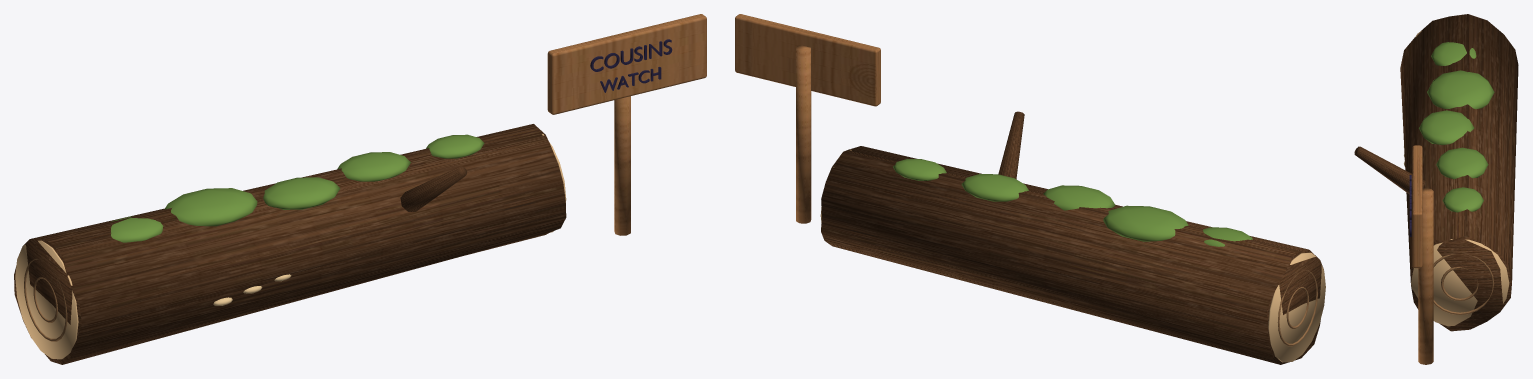
File: cousinslog.glb
The picture shows the model from 3 angles, left to right: view 1: azimuth 30°, elevation 25°; view 2: azimuth 150°, elevation 25°; view 3: azimuth 270°, elevation 25°; orthographic projection. The views are drawn at different scales.
Parts seen in each view (by area): view 1: cl_log, cl_board, cl_endcap, cl_mosspad.001, cl_post, cl_mosspad.002, cl_mosspad.003, cl_branch, cl_mosspad, cl_mosspad.004, Text; view 2: cl_log, cl_board, cl_post, cl_endcap, cl_mosspad.001, cl_mosspad.003, cl_mosspad.002, cl_branch, cl_mosspad.004, cl_mosspad; view 3: cl_log, cl_endcap.001, cl_post, cl_mosspad.001, cl_mosspad.002, cl_board, cl_mosspad.003, cl_branch, cl_mosspad.004, cl_mosspad, Torus.003, Torus.002.
Part boxes in pixels (x1,y1,x2,y2): cl_log: (14,124,566,364); cl_board: (547,14,706,114); cl_endcap: (15,240,78,359); cl_mosspad.001: (164,188,257,226); cl_post: (614,96,630,235); cl_mosspad.002: (263,177,340,209); cl_mosspad.003: (337,152,410,181); cl_branch: (400,166,466,211); cl_mosspad: (111,216,163,242); cl_mosspad.004: (426,134,484,158); Text: (590,39,672,71); cl_log: (821,146,1323,364); cl_board: (735,14,880,106); cl_post: (796,45,811,223); cl_endcap: (1268,252,1325,362); cl_mosspad.001: (1103,205,1188,241); cl_mosspad.003: (961,174,1028,201); cl_mosspad.002: (1043,185,1115,210); cl_branch: (998,111,1024,179); cl_mosspad.004: (893,159,946,180); cl_mosspad: (1203,227,1252,246); cl_log: (1400,14,1518,331); cl_endcap.001: (1411,239,1509,326); cl_post: (1418,188,1433,364); cl_mosspad.001: (1427,70,1494,109); cl_mosspad.002: (1419,110,1474,145); cl_board: (1412,145,1422,268); cl_mosspad.003: (1436,147,1488,179); cl_branch: (1354,146,1425,195); cl_mosspad.004: (1442,187,1483,212); cl_mosspad: (1431,42,1476,65); Torus.003: (1433,254,1494,314); Torus.002: (1441,267,1478,300).
Size of the model in its own units: 3.89 by 1.2 by 0.9595.
Materials: 7 (2 with a texture image).
